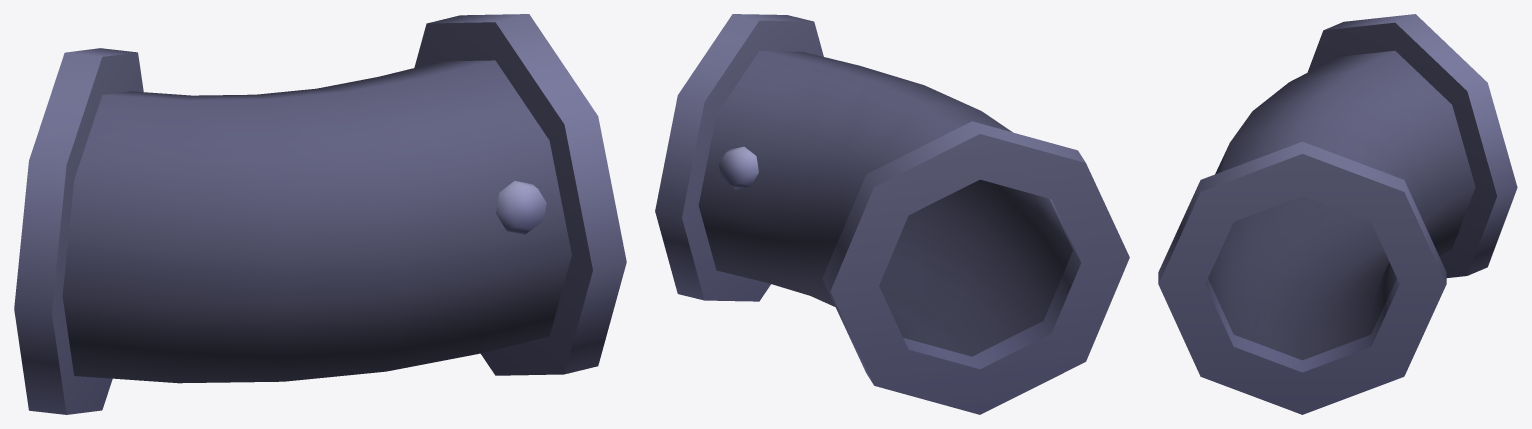
File: kenney-factory-pipe-large-curve.glb
3 renders of one model, left to right at view 1: azimuth 30°, elevation 25°; view 2: azimuth 150°, elevation 25°; view 3: azimuth 270°, elevation 25°, orthographic. The views are drawn at different scales.
Visible parts, largest first — view 1: pipe-large-curve; view 2: pipe-large-curve; view 3: pipe-large-curve.
Part boxes in pixels (left/top/right/bottom): pipe-large-curve: left=14, top=14, right=626, bottom=414; pipe-large-curve: left=655, top=14, right=1129, bottom=414; pipe-large-curve: left=1158, top=14, right=1517, bottom=414.
Bounding box in the file's own units: 2.25 × 1.5 × 1.87.
1 material, 1 textured.
